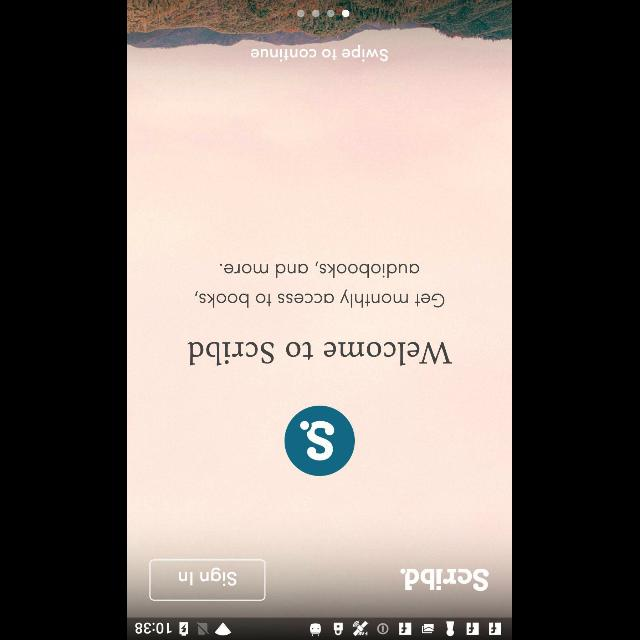backgroundimage: (128, 0, 512, 618)
image: (285, 405, 355, 475), (400, 568, 490, 592)
pageindicator: (298, 9, 350, 17)
text: (196, 262, 446, 308), (188, 342, 454, 366), (251, 46, 389, 62)
textbutton: (150, 559, 266, 601)
uppertaskbar: (128, 617, 512, 639)
